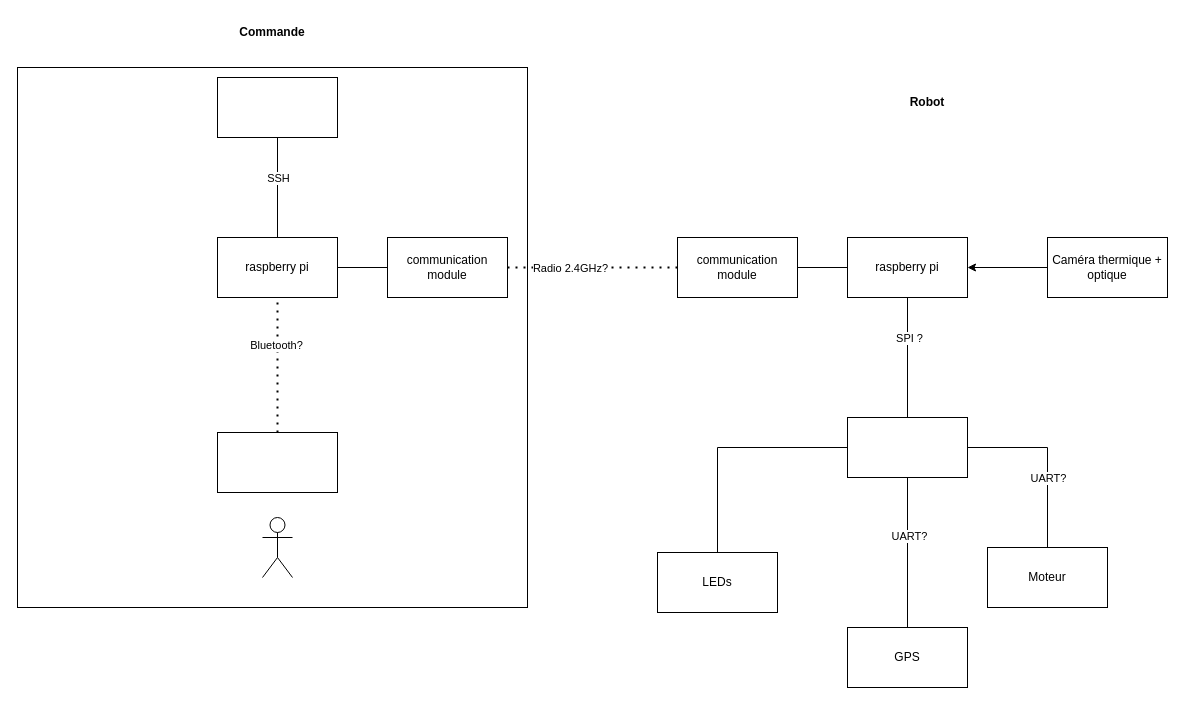
Image size: 1185x705. Some labels were removed from this diagram. The centre of each missing label's shape, as x and y in pixels:
"Manette pour jeux-vidéos" belongs at (277,462).
"stm 32" belongs at (907,447).
"User" belongs at (277,547).
"écran" belongs at (277,107).
